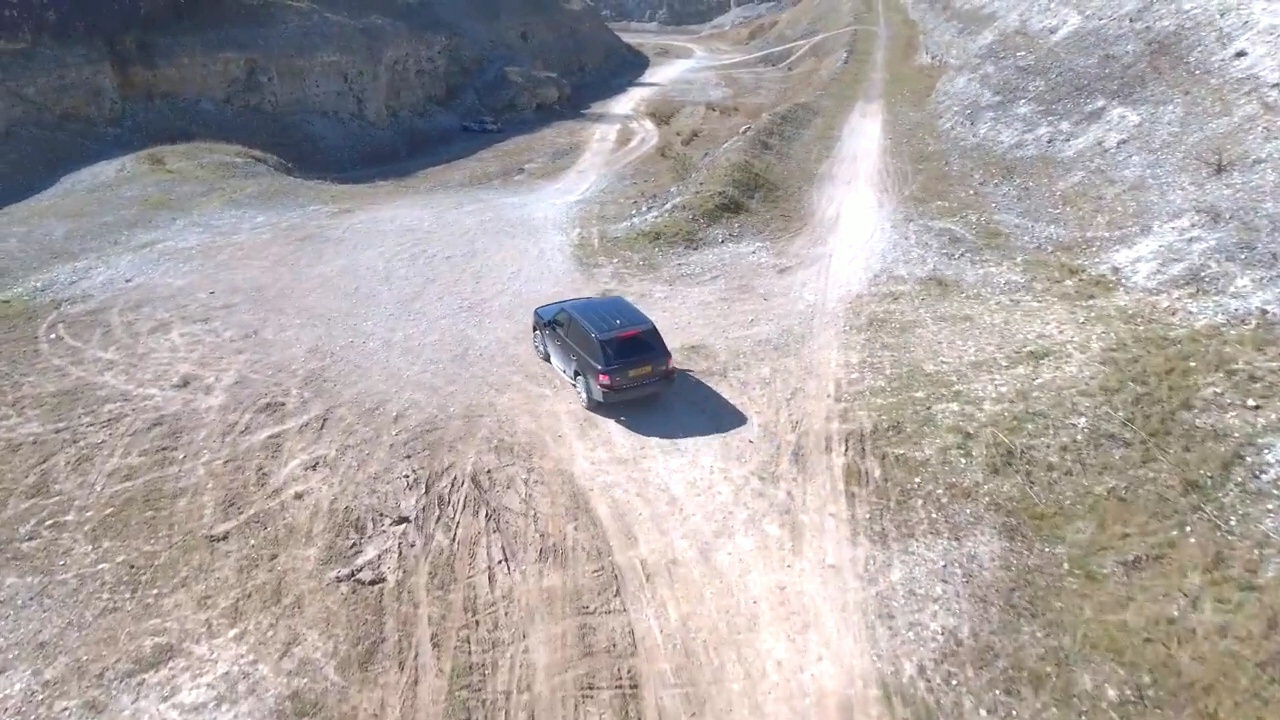araba: (523, 292, 678, 409)
